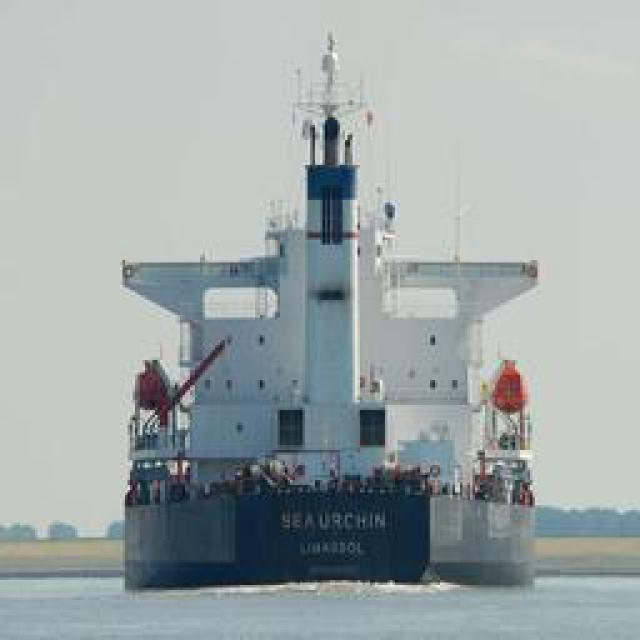Ship: (115, 30, 557, 602)
